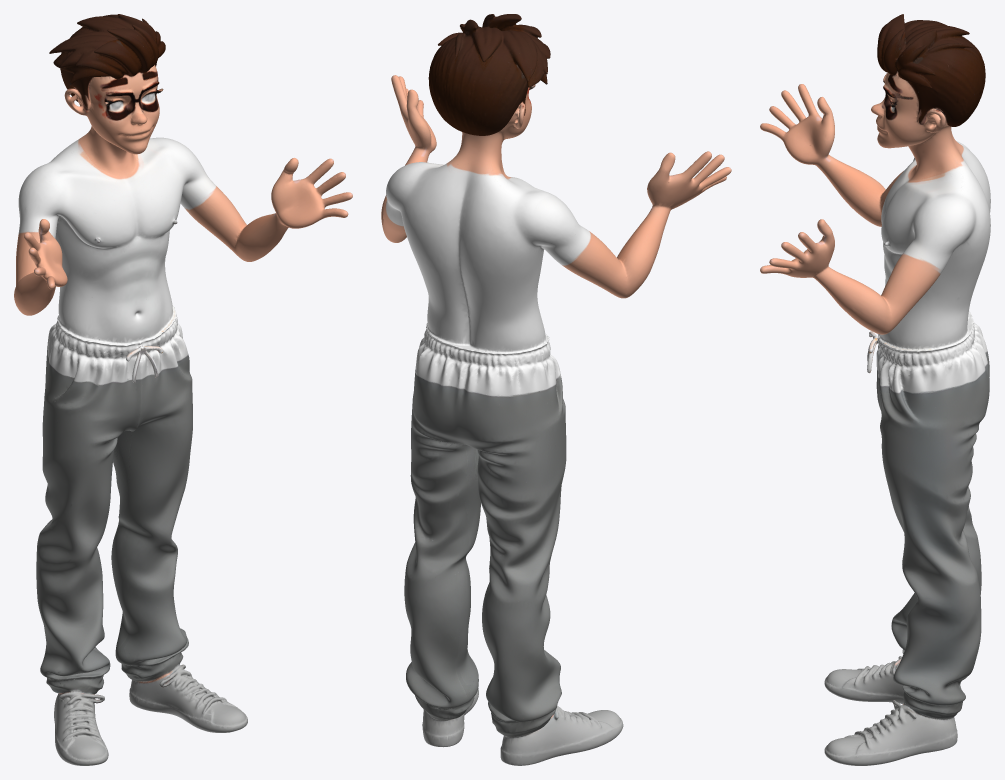
The model's file is Meshy_AI_A_stylized_low_poly_h_0408202528_texture.fbx.
3 renders of one model, left to right at view 1: azimuth 30°, elevation 25°; view 2: azimuth 150°, elevation 25°; view 3: azimuth 270°, elevation 25°, orthographic. The views are drawn at different scales.
Visible parts, largest first — view 1: Mesh_0; view 2: Mesh_0; view 3: Mesh_0.
Part boxes in pixels (x1,y1,x2,y2): Mesh_0: [14, 14, 352, 765]; Mesh_0: [381, 14, 731, 765]; Mesh_0: [760, 14, 990, 765].
Size of the model in its own units: 90.26 by 190 by 56.6.
1 material, 1 textured.
